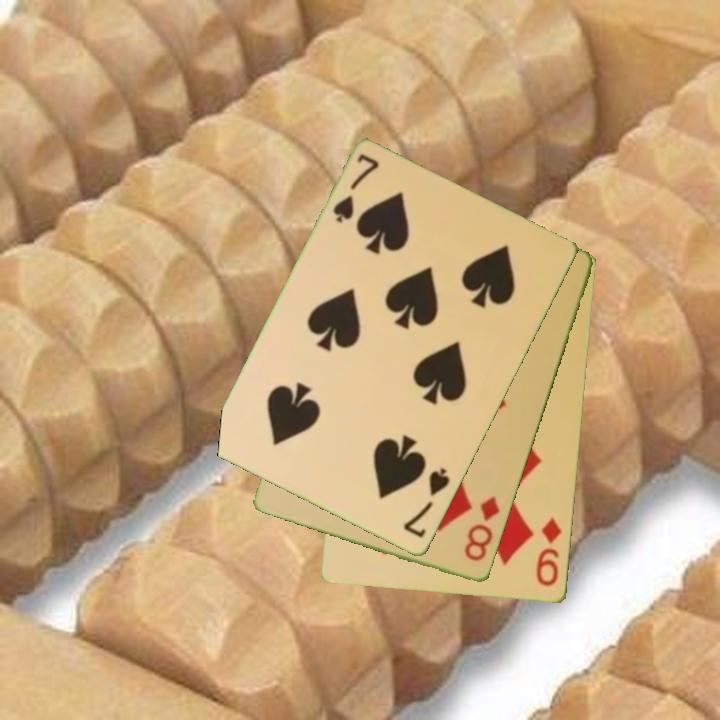7s: (400, 464, 453, 542), (329, 150, 382, 227)
8d: (461, 493, 503, 565)
9d: (533, 514, 565, 589)
